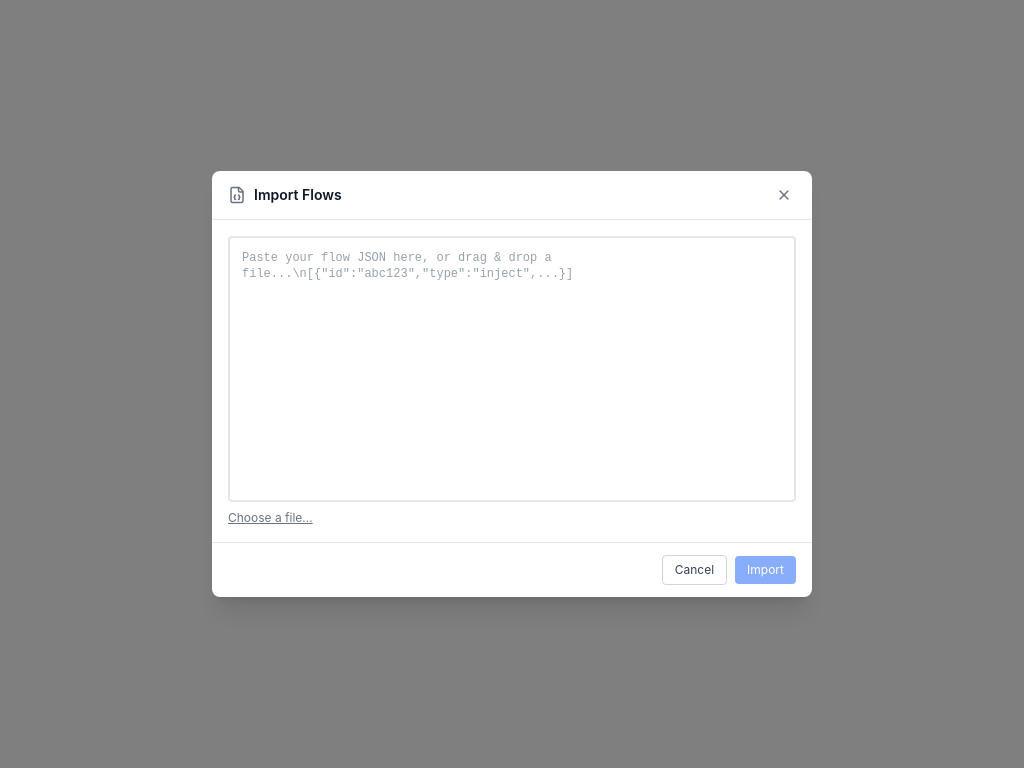
ImportDialog › import behavior › shows error for invalid JSON
Replace the text in the text box with test id "import-textarea" with "not valid json" at [512, 366], box [230, 238, 794, 494]
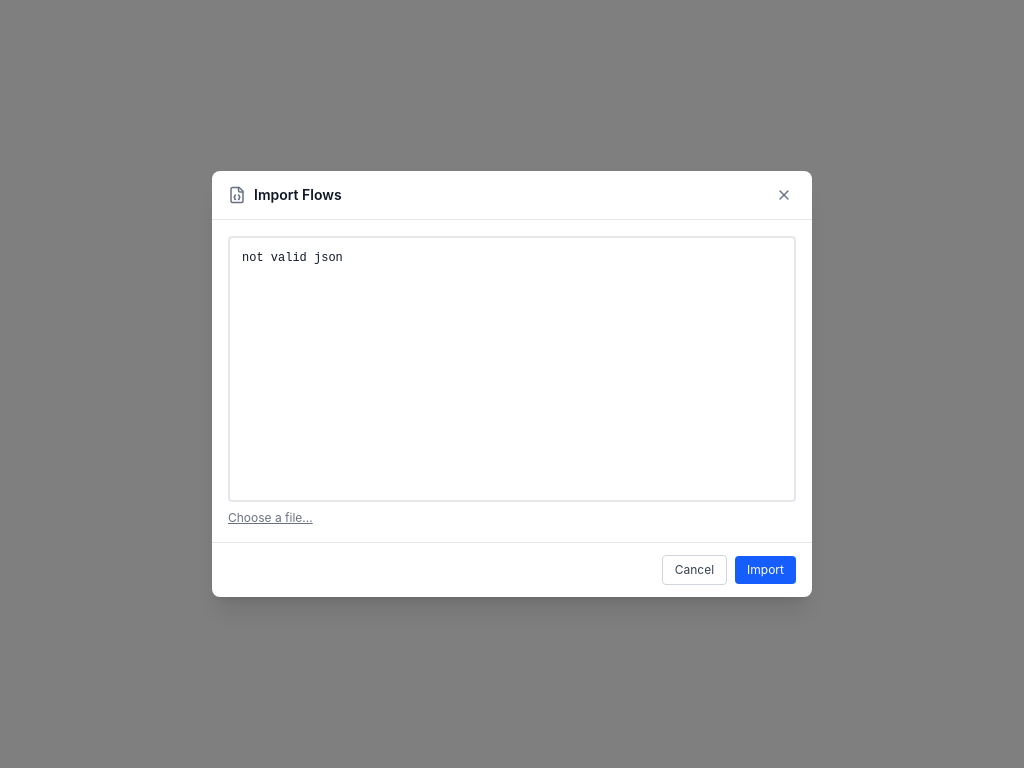
Click the button with test id "import-button" at [766, 570], box [735, 556, 796, 584]
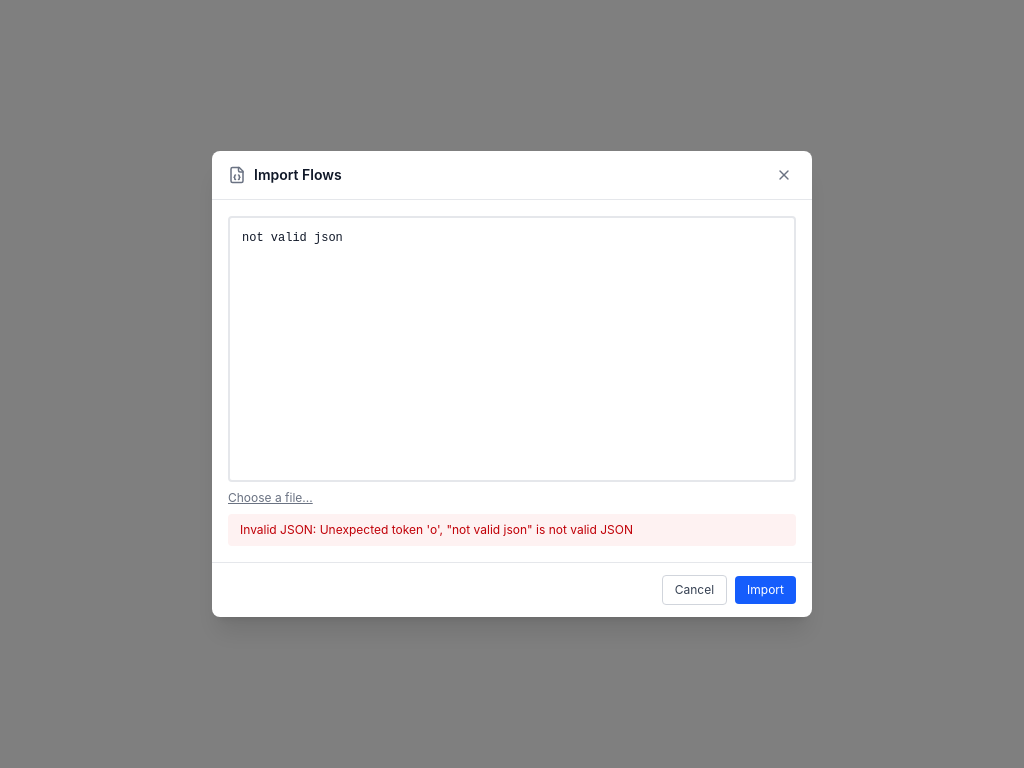
Expected: the text with test id "import-error" is shown, [228, 514, 796, 546]
